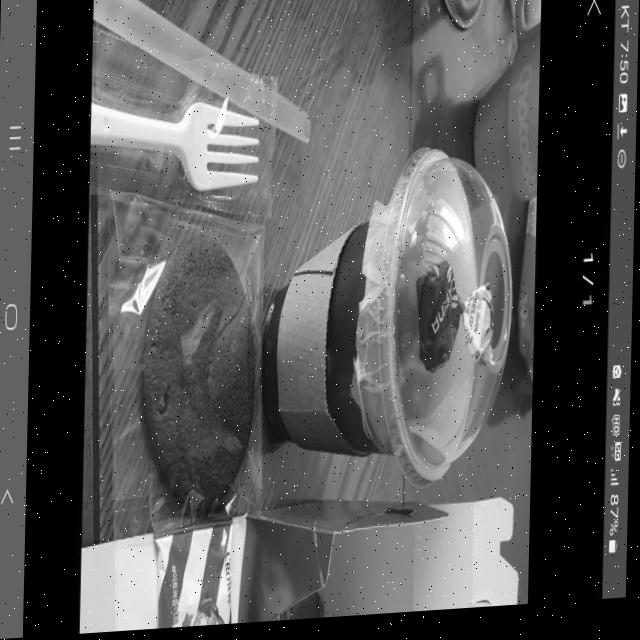cup: (250, 152, 512, 559)
